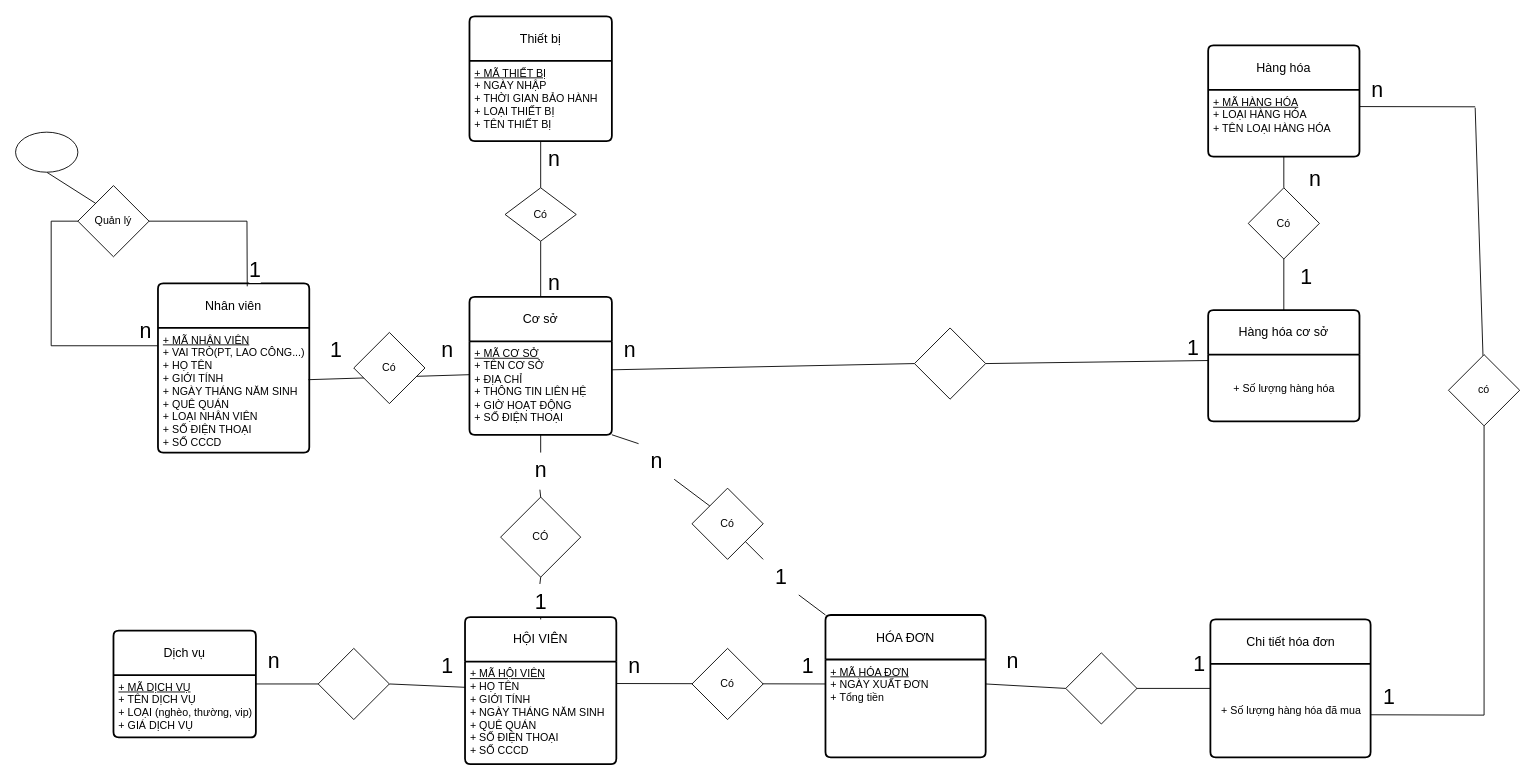
The diagram is 1535 pixels wide and 780 high, and some of its shapes have lost their labels. Each missing label, with the centre of its shape:
"Bán" goes at pixel 950 363.
"Làm" goes at pixel 1101 688.
"NGÀY NHẬN CHỨC" goes at pixel 46 151.
"ĐĂNG KÝ" goes at pixel 353 683.
